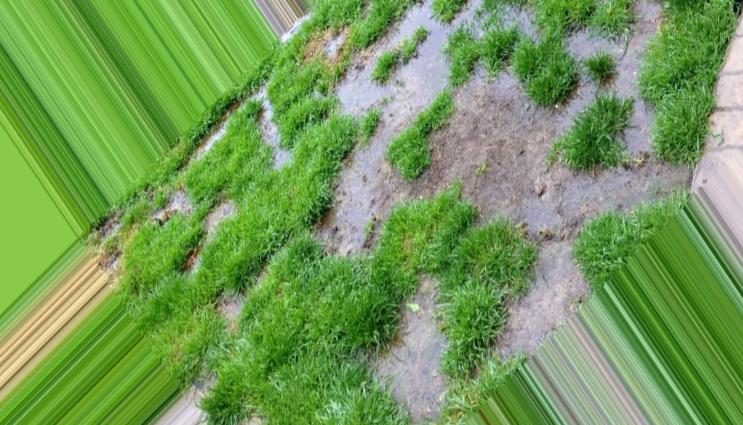patch: (445, 101, 540, 210), (395, 298, 454, 411), (319, 151, 371, 233), (246, 98, 297, 168), (557, 162, 645, 202), (348, 71, 442, 108), (388, 11, 440, 69), (529, 259, 571, 325), (154, 197, 212, 227), (575, 28, 619, 57), (191, 133, 216, 145)
